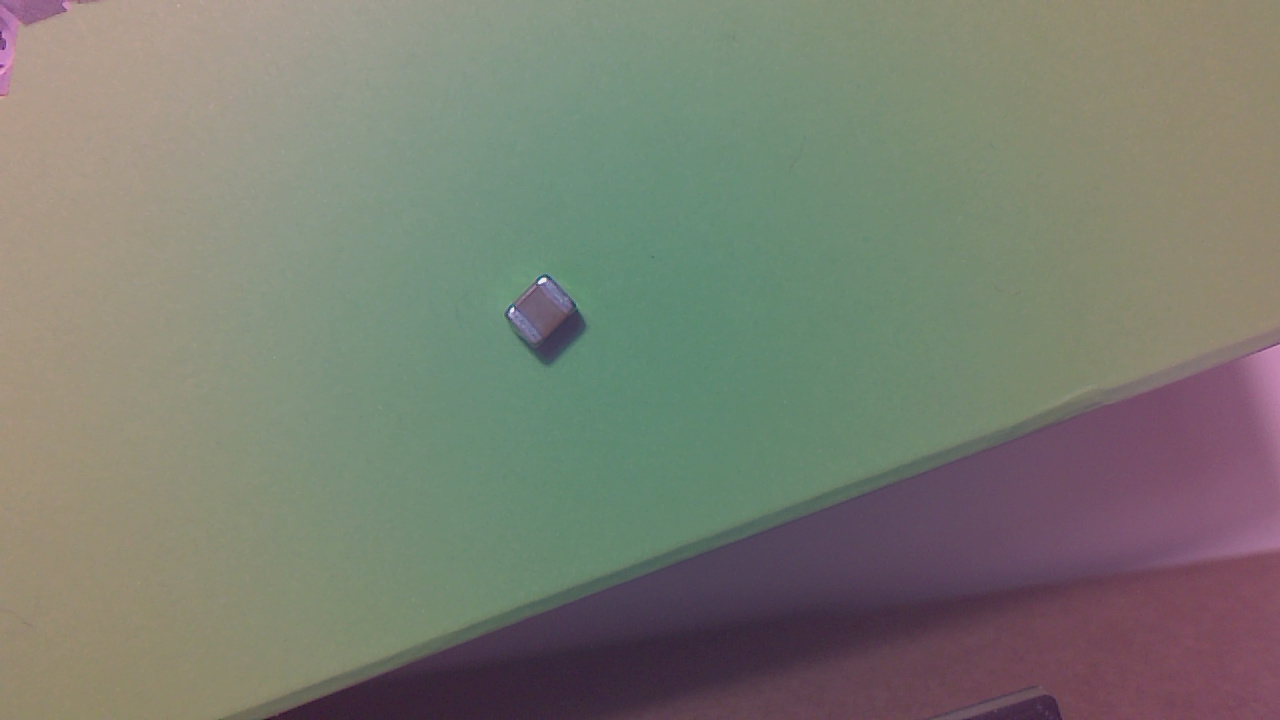Condensator: (510, 280, 590, 353)
